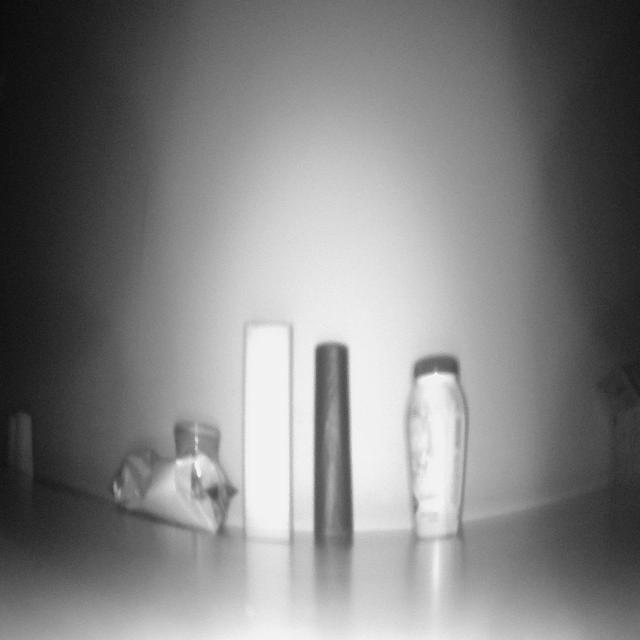targets: (244, 313, 297, 549), (114, 437, 229, 545), (405, 348, 466, 545), (308, 342, 352, 539), (168, 416, 225, 524), (598, 360, 640, 490), (8, 399, 37, 489)
